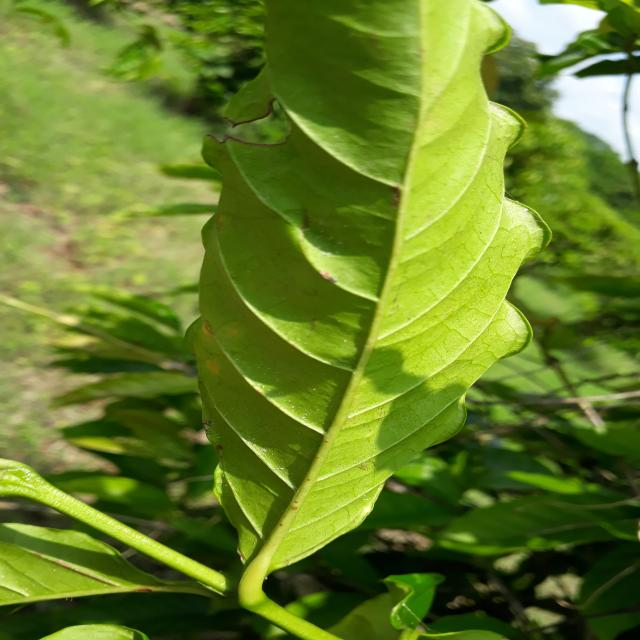Enfermedad-Roya: (192, 0, 539, 616)
